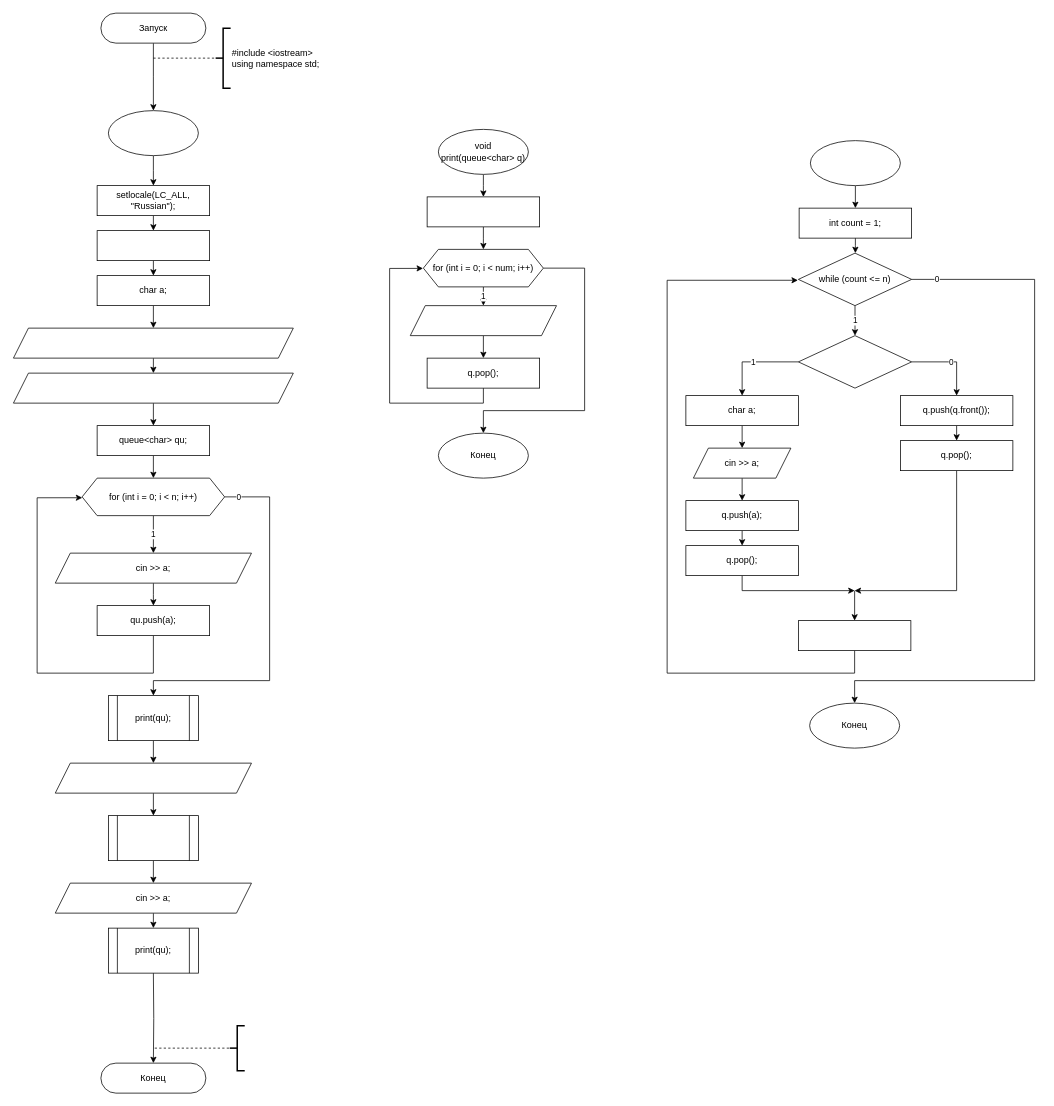
Image size: 1054x1106. Some labels were removed from this diagram. The centre of each missing label's shape, as x and y in pixels:
change(qu, n);: point (153, 838)
cin >> n;: point (153, 387)
count++;: point (854, 635)
cout << "Введите размер очереди: ";: point (153, 342)
cout << endl;: point (153, 777)
cout << q.front();: point (483, 320)
if (count % 2 != 0): point (855, 361)
int main() {: point (153, 133)
int n;: point (153, 245)
int num = q.size();: point (483, 211)
return 0; }: point (237, 1047)
void change(queue<char>& q, int& n): point (855, 163)
